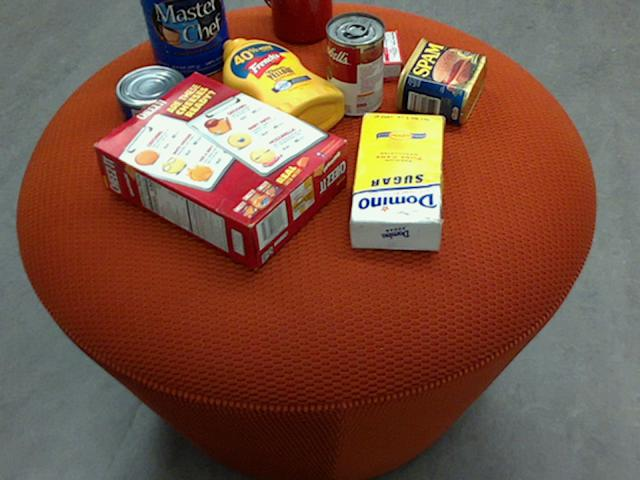cracker_box: (92, 70, 347, 267)
gelatin_box: (330, 30, 404, 82)
large_marker: (294, 0, 314, 36)
master_chef_can: (139, 0, 231, 77)
mug: (266, 0, 332, 42)
mustard_bottle: (222, 38, 343, 143)
potted_meat_can: (394, 37, 485, 124)
sugar_box: (350, 111, 442, 251)
tomato_soup_can: (325, 11, 385, 115)
tuna_fish_can: (113, 66, 189, 128)
